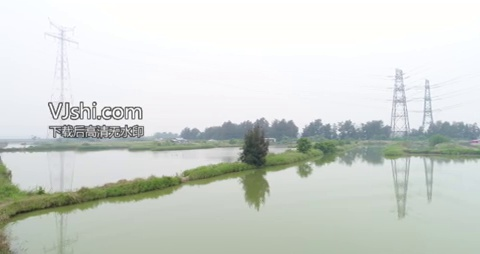tower_body: (42, 13, 81, 101), (387, 64, 416, 139), (421, 76, 436, 137)
